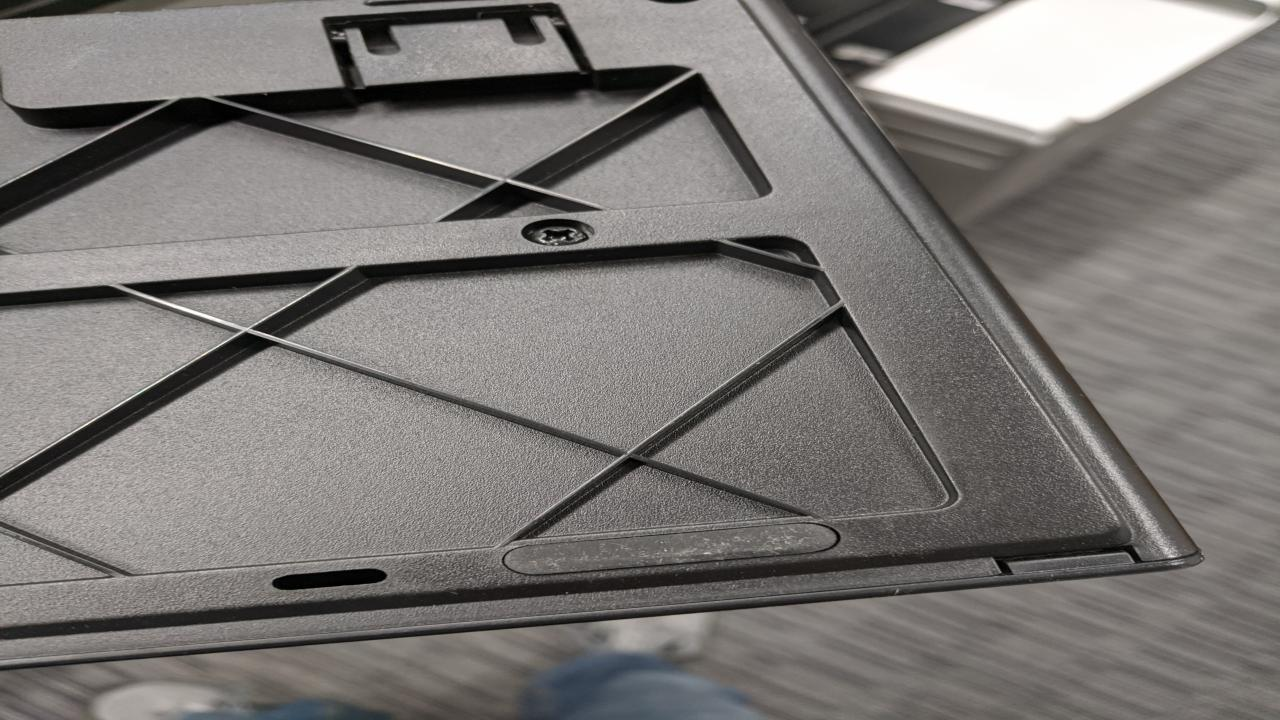CRS: (522, 222, 590, 246)
